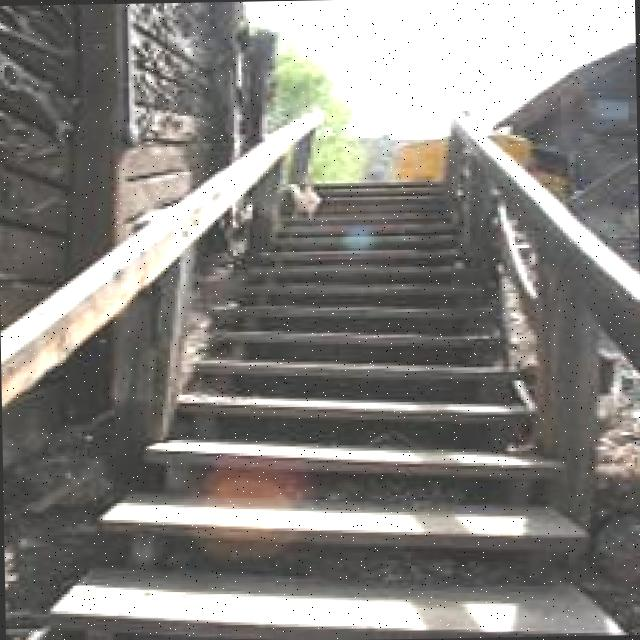stairs: (43, 117, 640, 640)
